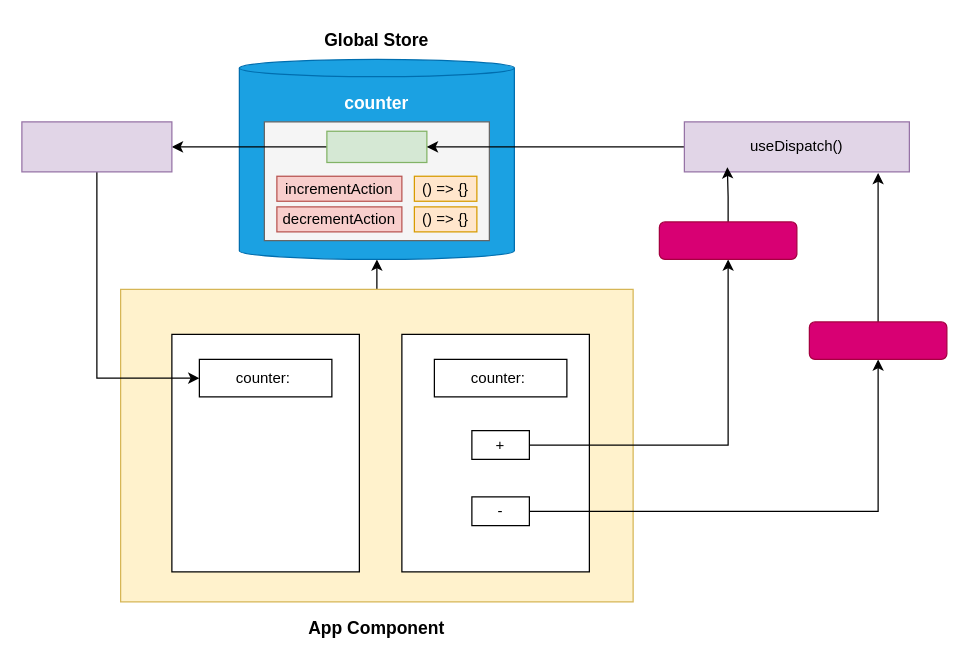
The diagram is 969 pixels wide and 668 high, and some of its shapes have lost their labels. Each missing label, with the centre of its shape:
decrementAction(): the point at 877,340
incrementAction(): the point at 727,240
useSelector(): the point at 96,146
value: 0: the point at 376,146
